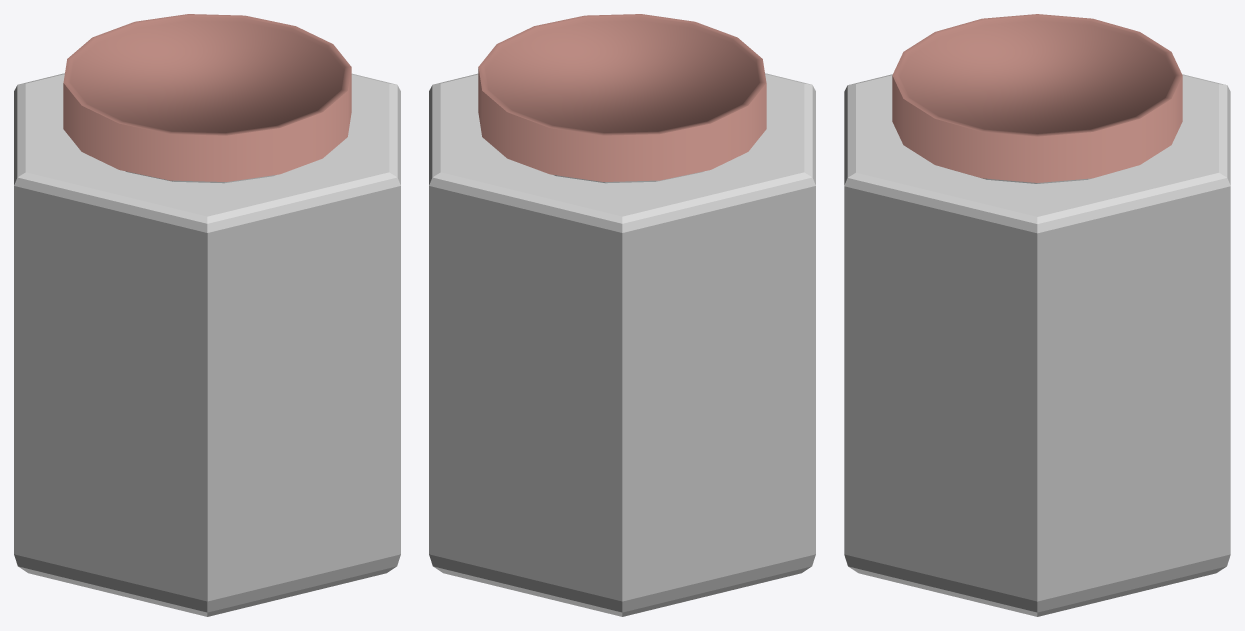
File: jar.glb
The picture shows the model from 3 angles, left to right: view 1: azimuth 30°, elevation 25°; view 2: azimuth 150°, elevation 25°; view 3: azimuth 270°, elevation 25°; orthographic projection.
Parts seen in each view (by area): view 1: Cylinder, Cylinder.001; view 2: Cylinder, Cylinder.001; view 3: Cylinder, Cylinder.001.
Part boxes in pixels (bbox=[...]): Cylinder: bbox=[14, 73, 400, 616]; Cylinder.001: bbox=[63, 14, 351, 181]; Cylinder: bbox=[429, 73, 815, 616]; Cylinder.001: bbox=[478, 14, 766, 181]; Cylinder: bbox=[844, 74, 1230, 616]; Cylinder.001: bbox=[892, 14, 1182, 182].
Bounding box in the file's own units: 2 × 2.25 × 1.73.
